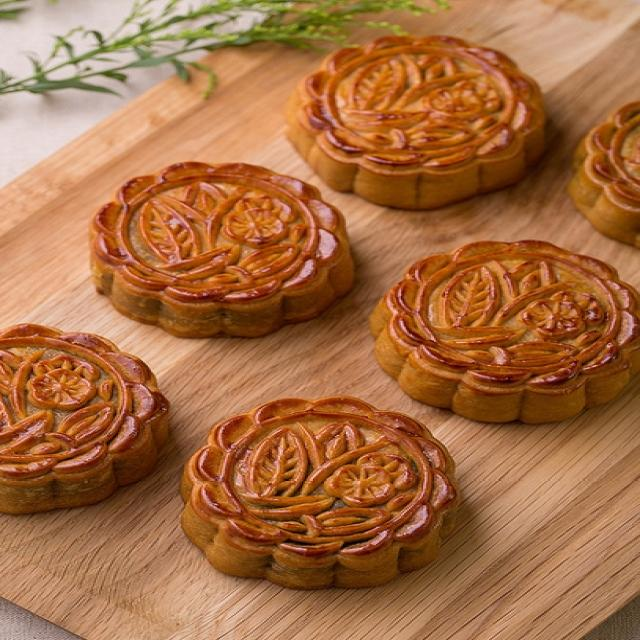蛋糕甜品: (9, 26, 629, 589)
